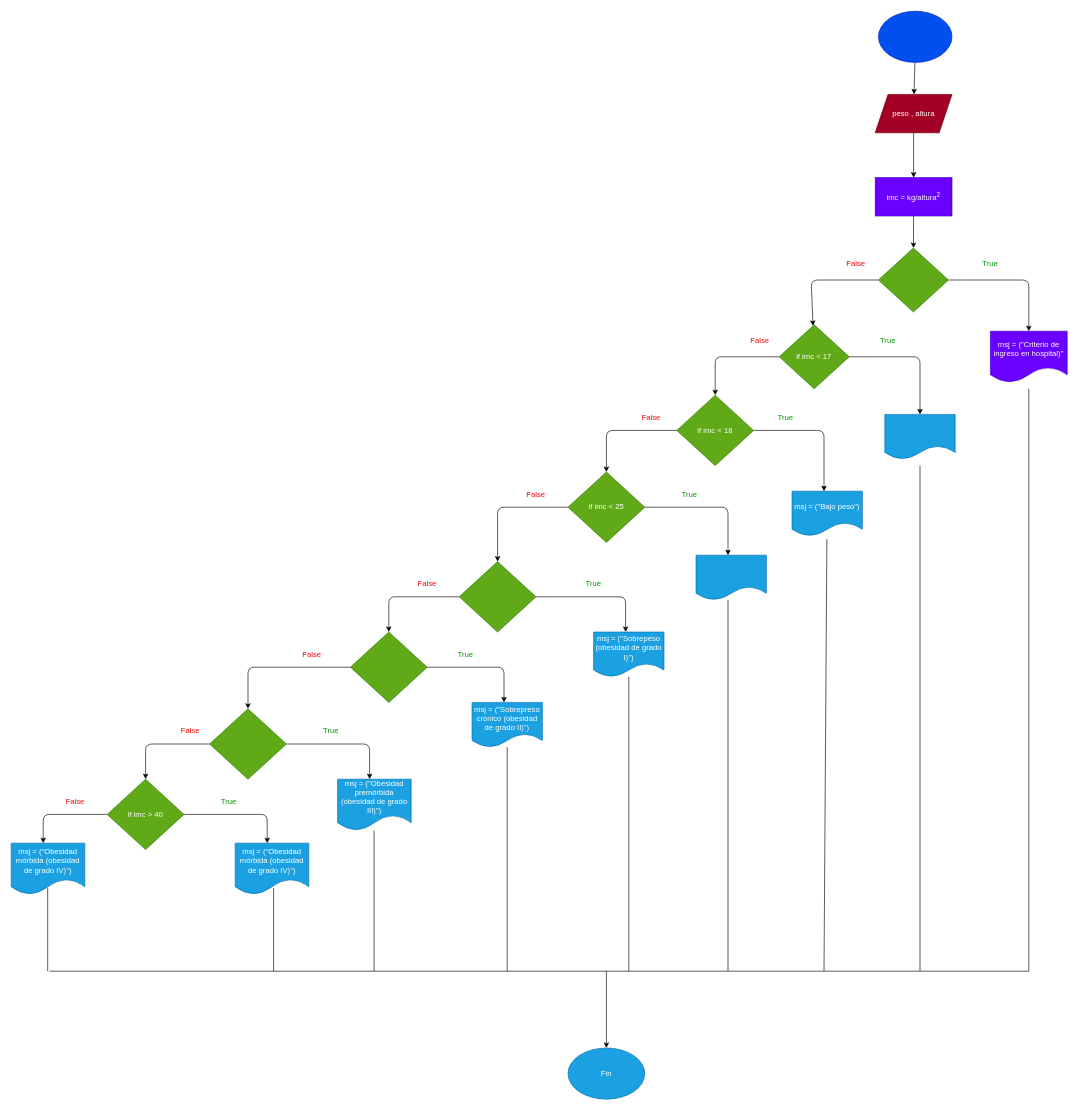
Some shapes in this 1078 by 1110 pixel diagram are drawn without their labels. Here are the shapes that lost their labels. From the top down, the box of each, then its label:
(878, 11, 952, 62): Inicio
(878, 247, 948, 312): if imc < 16
(884, 414, 955, 459): msj = (" Infrapeso")
(459, 561, 536, 632): if imc < 30
(695, 555, 766, 600): msj = ("Peso saludable")
(350, 631, 427, 702): if imc < 35
(209, 708, 286, 779): if imc < 40
